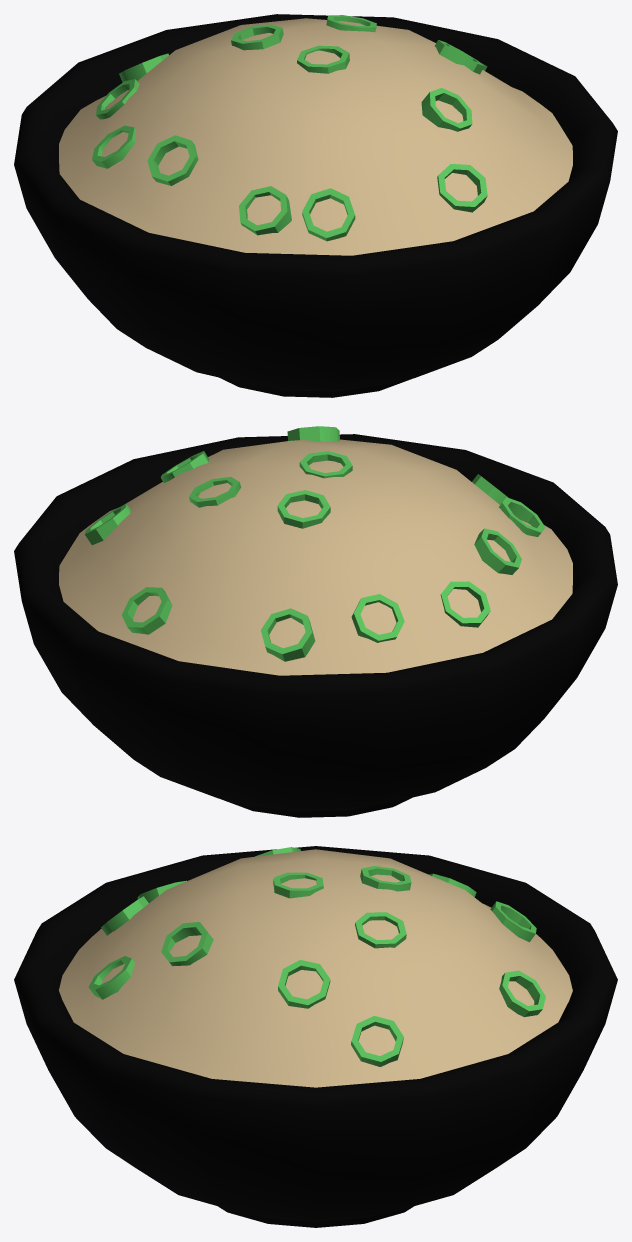
Rendered from ASFTR_Bowl_RiceOnion.fbx.
3 renders of one model, top to bottom at view 1: azimuth 30°, elevation 25°; view 2: azimuth 150°, elevation 25°; view 3: azimuth 270°, elevation 25°, orthographic.
Visible parts, largest first — view 1: ASFTR_Bowl_RiceOnion; view 2: ASFTR_Bowl_RiceOnion; view 3: ASFTR_Bowl_RiceOnion.
Part boxes in pixels (x1,y1,x2,y2): ASFTR_Bowl_RiceOnion: [14, 14, 617, 397]; ASFTR_Bowl_RiceOnion: [14, 426, 617, 817]; ASFTR_Bowl_RiceOnion: [14, 846, 617, 1227].
Size of the model in its own units: 60.78 by 32.67 by 60.78.
